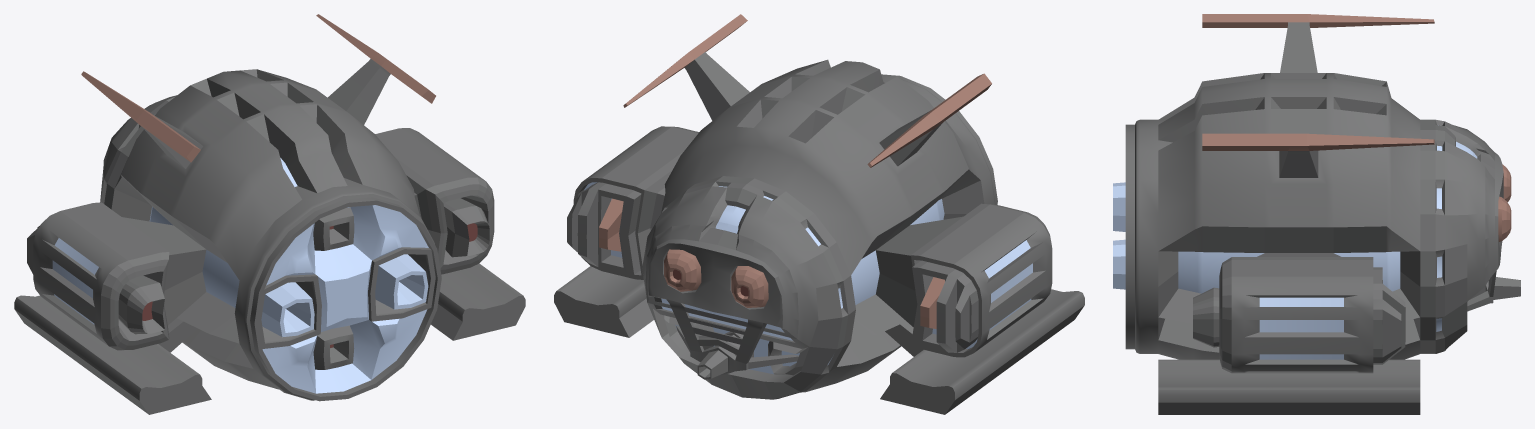
File: Enemy_Final.fbx
3 views of the same model, side by side, from view 1: azimuth 30°, elevation 25°; view 2: azimuth 150°, elevation 25°; view 3: azimuth 270°, elevation 25° (orthographic). The views are drawn at different scales.
Visible parts, largest first — view 1: pCylinder1; view 2: pCylinder1; view 3: pCylinder1.
Boxes of the visible parts, left/top/right/bottom form: pCylinder1: left=14, top=14, right=525, bottom=414; pCylinder1: left=554, top=14, right=1084, bottom=414; pCylinder1: left=1113, top=14, right=1520, bottom=414.
Size of the model in its own units: 10.86 by 7.28 by 9.32.
